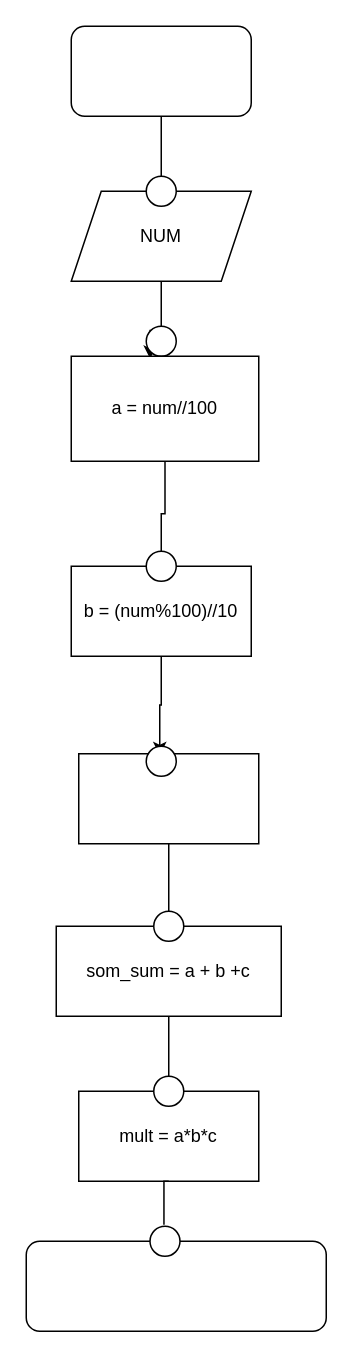
The diagram is 353 pixels wide and 1358 high, and some of its shapes have lost their labels. The box of each missing label's shape, as (x1, y1, x2, y2) in pixels:
c = num%10: (77, 752, 259, 844)
конец: (25, 1240, 326, 1331)
начало: (70, 25, 251, 116)
